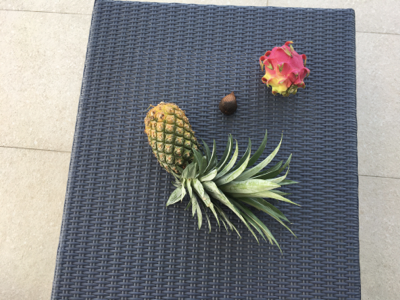dragon fruit: (260, 40, 311, 97)
pineapple: (144, 101, 299, 254)
snake fruit: (220, 92, 238, 116)
